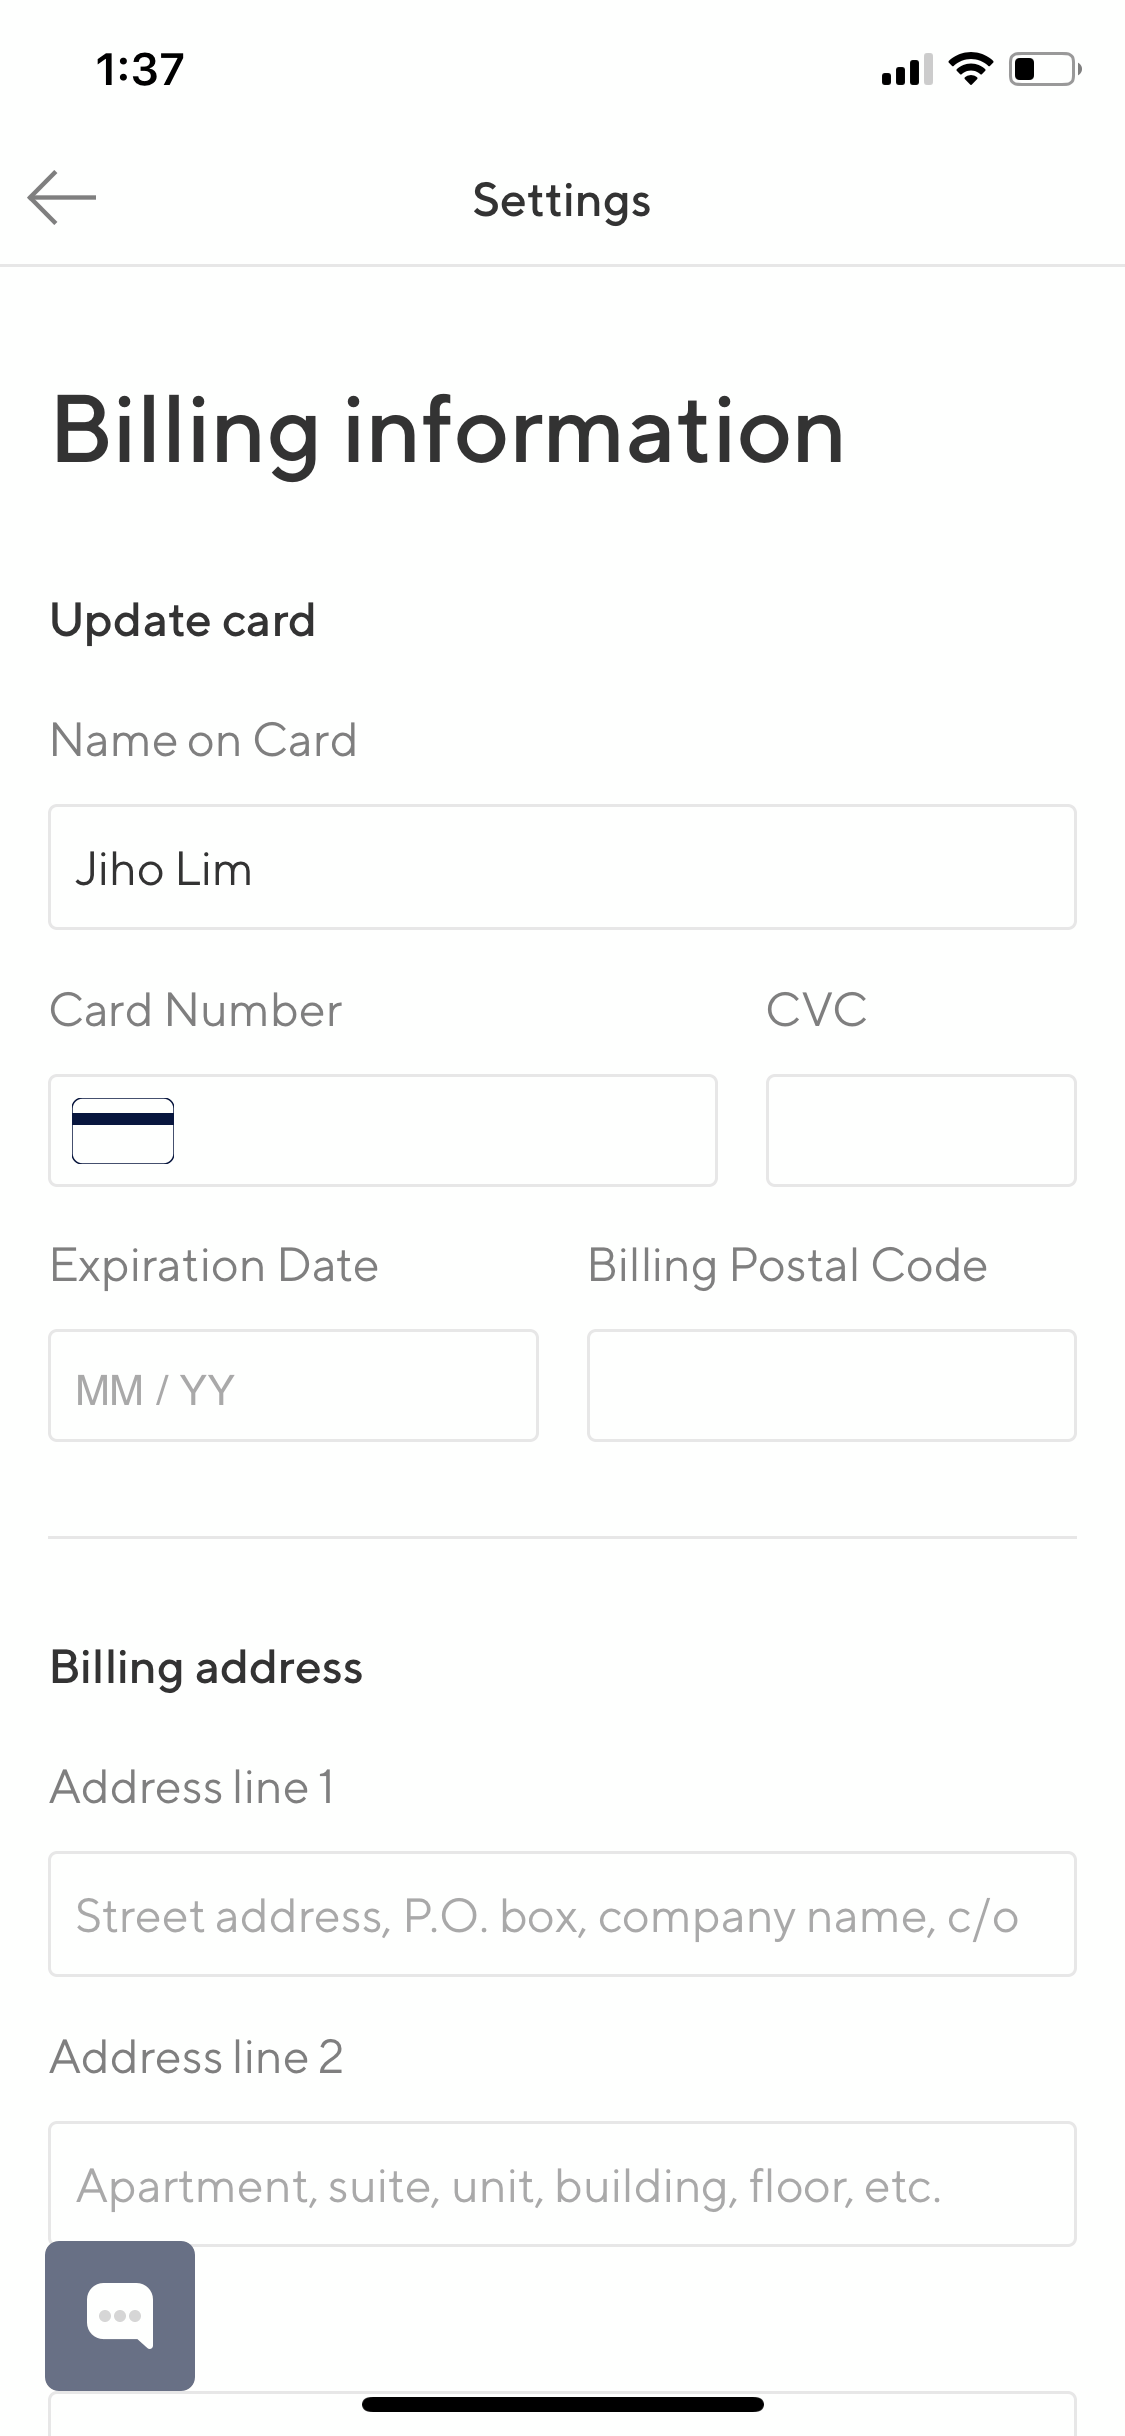Buttons: (2, 127, 124, 255)
FAB (Floating Action Button): (26, 2226, 214, 2400)
Text Fields: (28, 677, 1099, 948), (31, 1745, 1089, 1985), (39, 2034, 1086, 2257), (31, 971, 740, 1196), (572, 1218, 1099, 1451), (33, 1221, 553, 1456), (747, 976, 1103, 1201)
